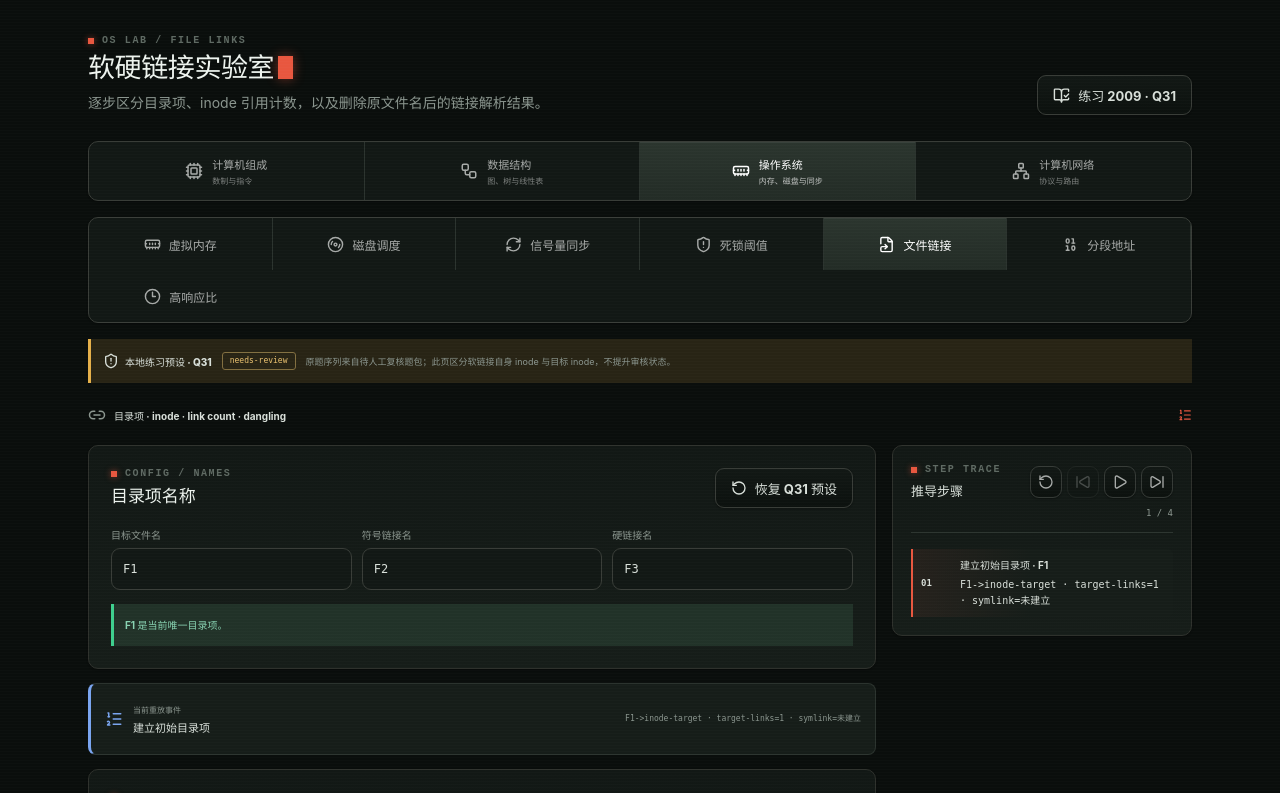
it: FilesystemLinksLabPage › advances to the final dangling-symlink and surviving-hardlink state
The image size is (1280, 793).
Click the button named "下一步".
click(1157, 482)  # box [1141,466,1173,498]
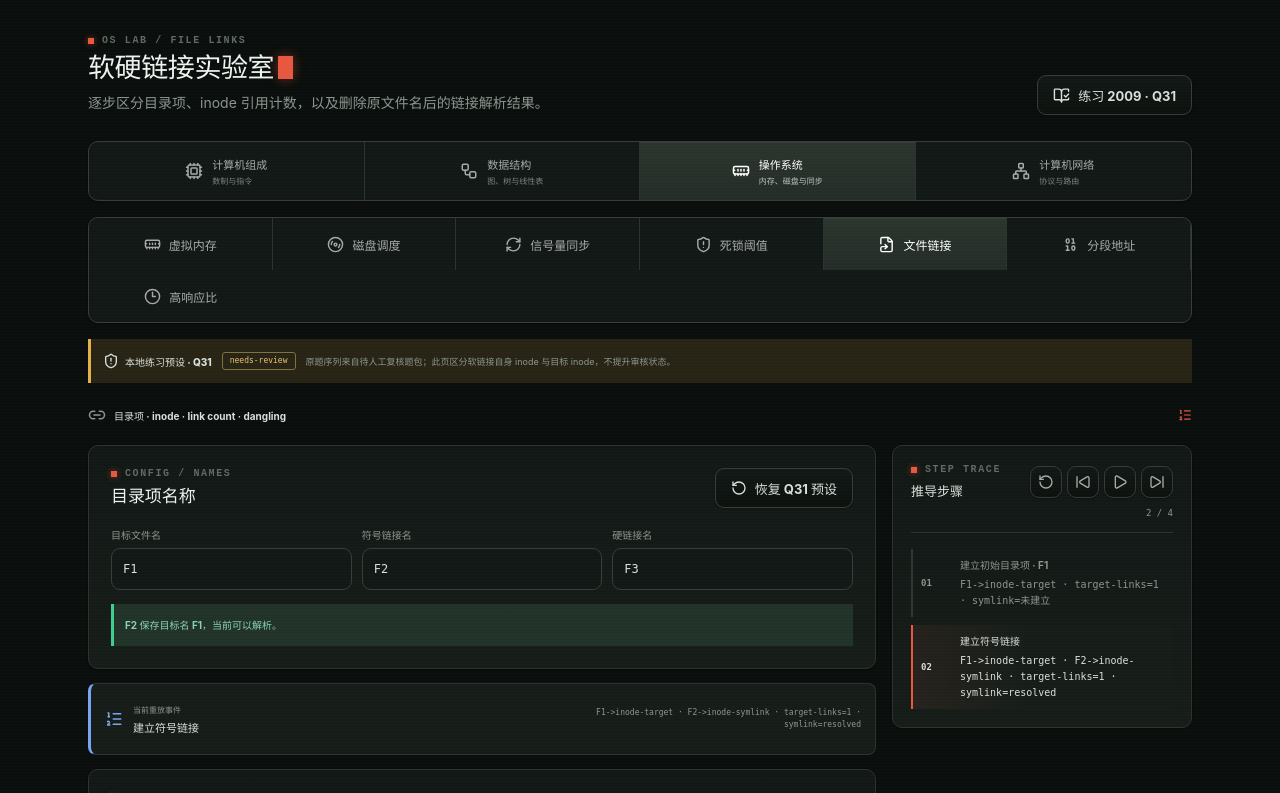
Click the button named "下一步".
click(1157, 482)  # box [1141,466,1173,498]
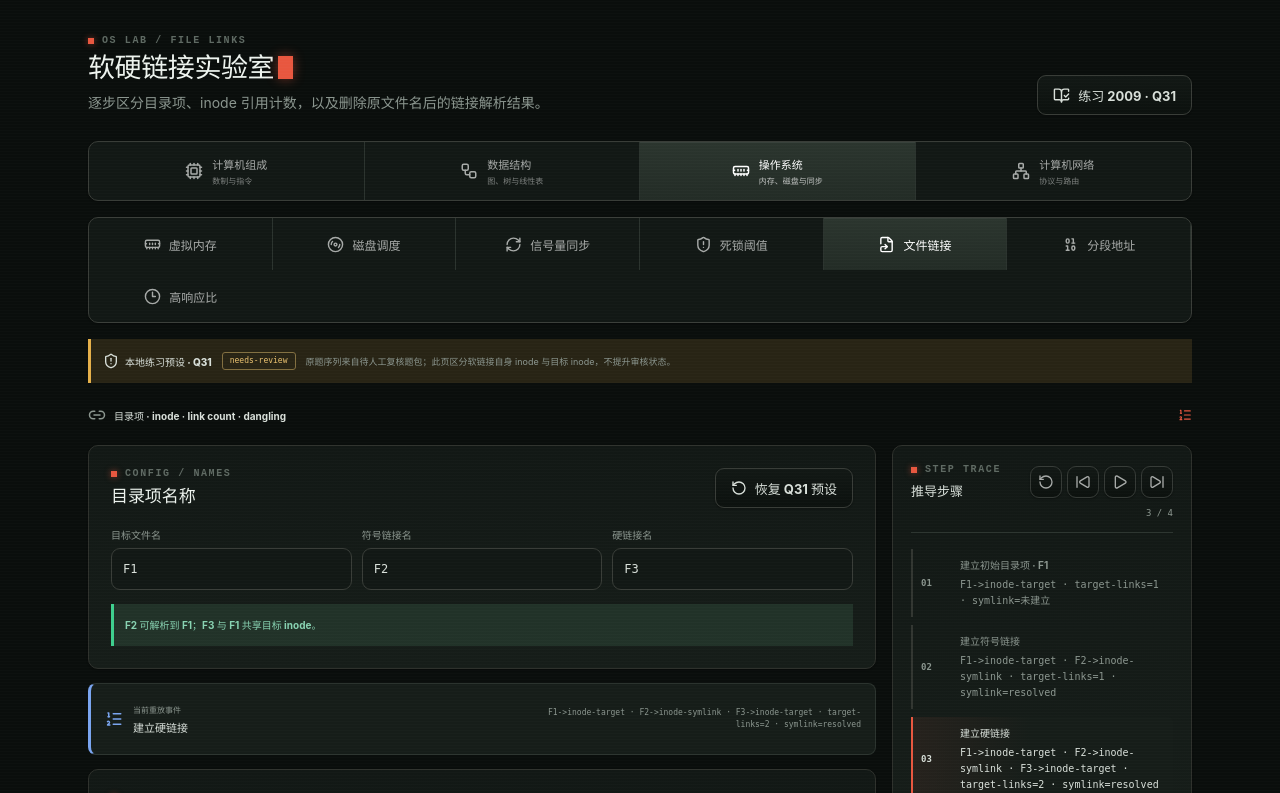
Click the button named "下一步".
click(1157, 482)  # box [1141,466,1173,498]
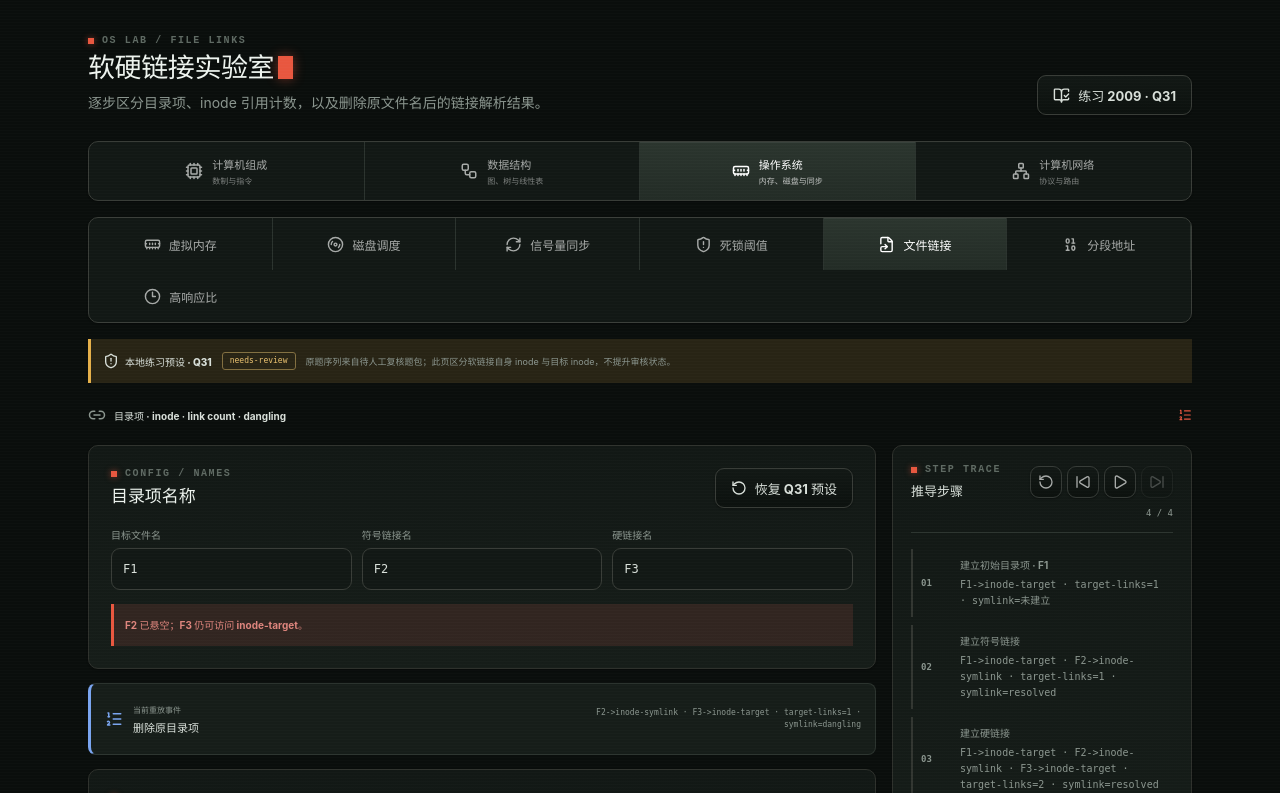
Check: the message named "链接解析状态" reads "F2 已悬空；F3 仍可访问 inode-target。", box [125,619,308,631]
